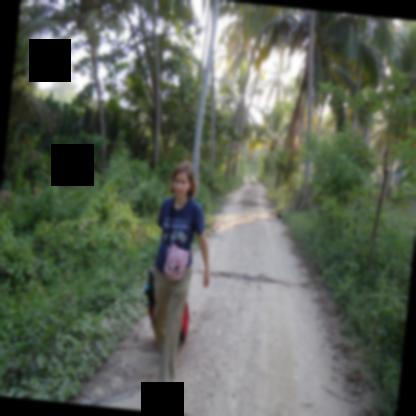handbag: (164, 197, 188, 281)
suitcase: (148, 301, 189, 343)
